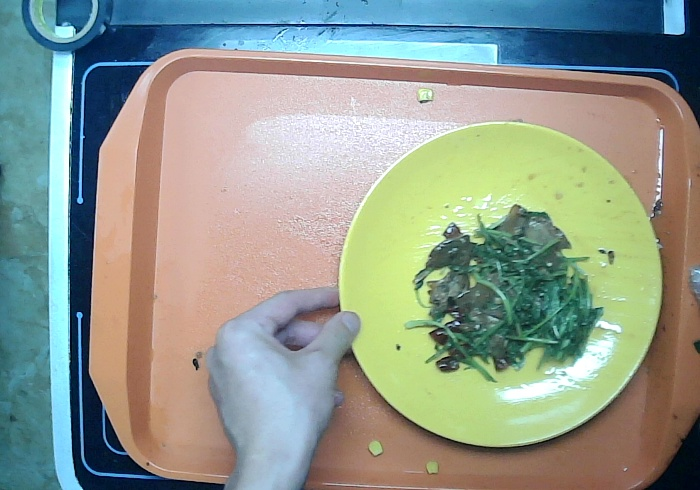HZYJPL-Huang_Se_Yuan_Pan: (324, 112, 676, 465)
